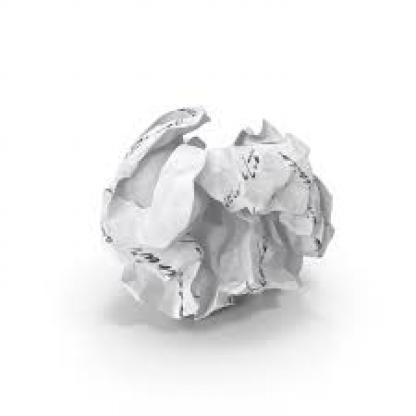paper: (96, 103, 335, 320)
